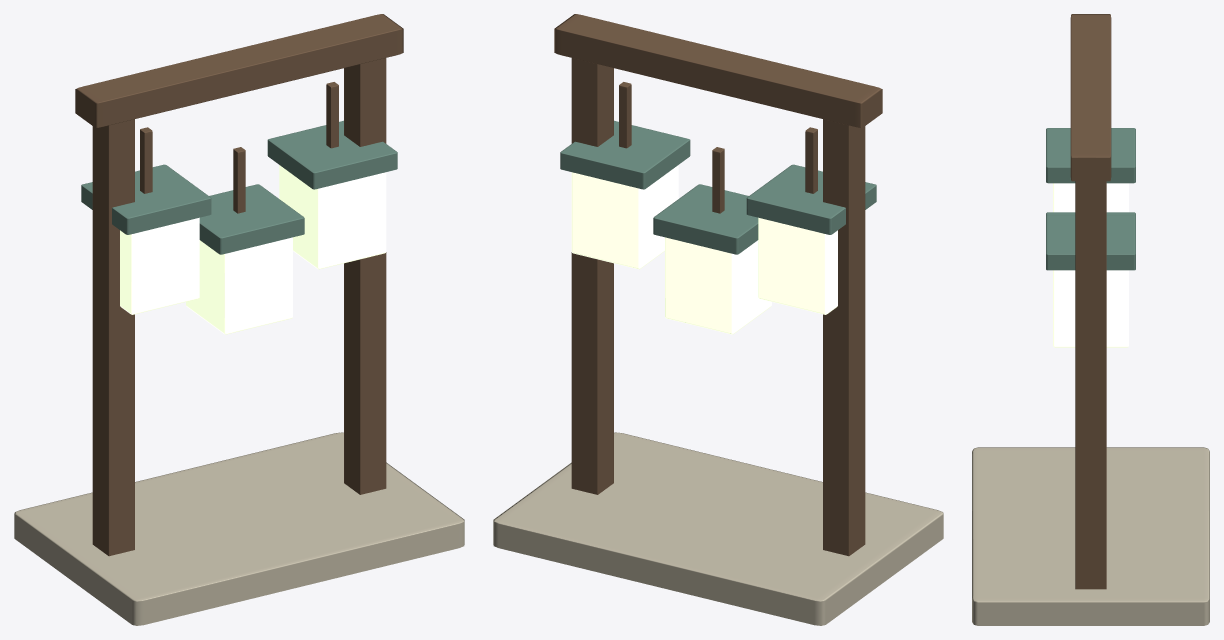
Rendered from winterlantern-1.glb.
The picture shows the model from 3 angles, left to right: view 1: azimuth 30°, elevation 25°; view 2: azimuth 150°, elevation 25°; view 3: azimuth 270°, elevation 25°; orthographic projection. The views are drawn at different scales.
Parts seen in each view (by area): view 1: winterlantern-1-0; view 2: winterlantern-1-0; view 3: winterlantern-1-0.
Boxes of the visible parts, box(x1,y1,x2,y2) form: winterlantern-1-0: box(14, 14, 464, 625); winterlantern-1-0: box(493, 14, 943, 625); winterlantern-1-0: box(972, 14, 1209, 625).
Size of the model in its own units: 0.82 by 1.14 by 0.53.
